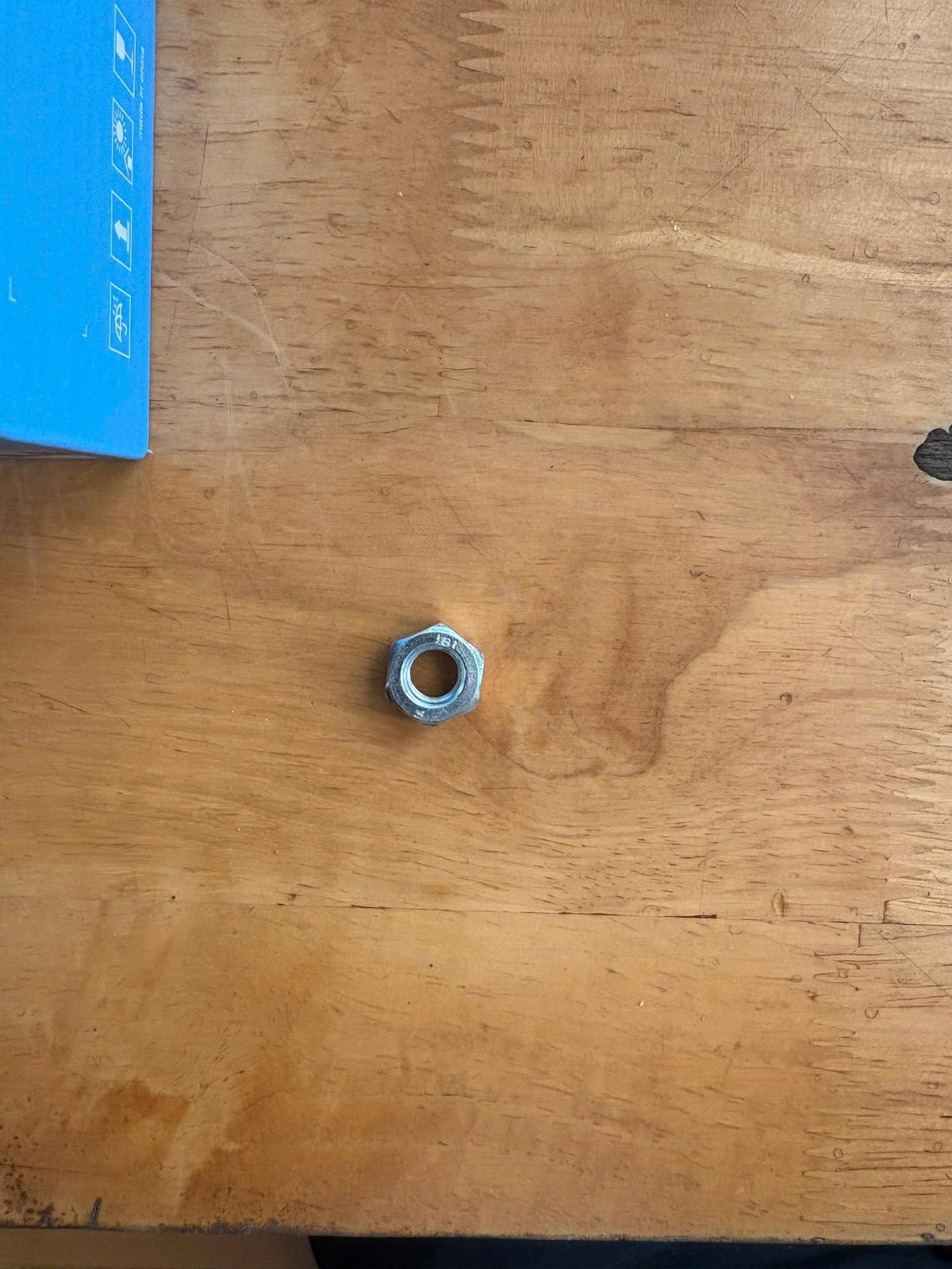nut: (367, 610, 488, 744)
